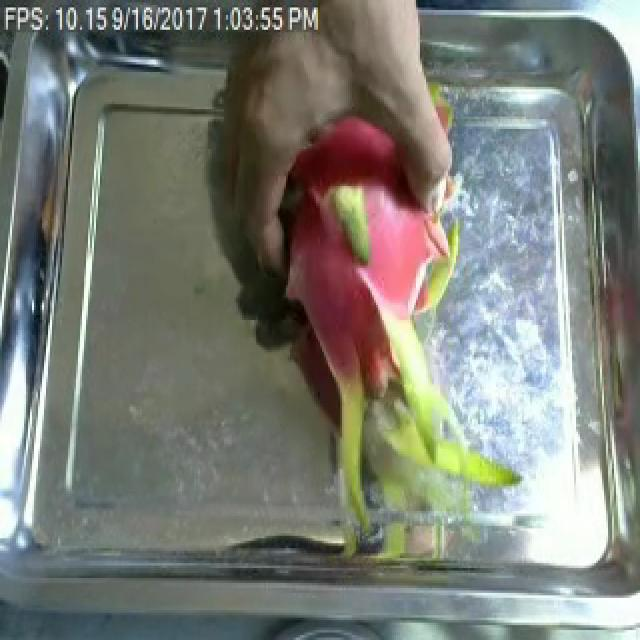fruit: (258, 110, 514, 528)
